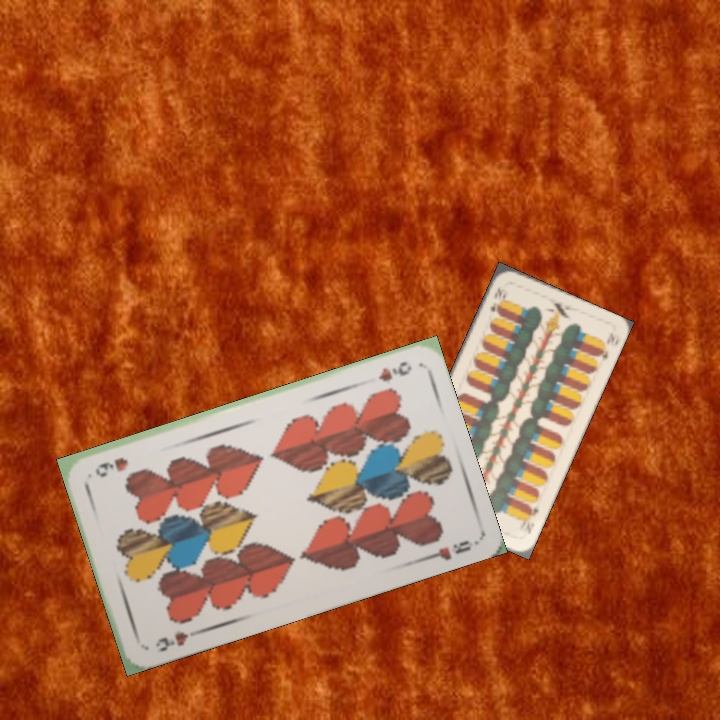E10: (520, 501, 541, 537), (486, 284, 509, 316)
H9: (151, 626, 201, 655), (374, 357, 415, 385)
